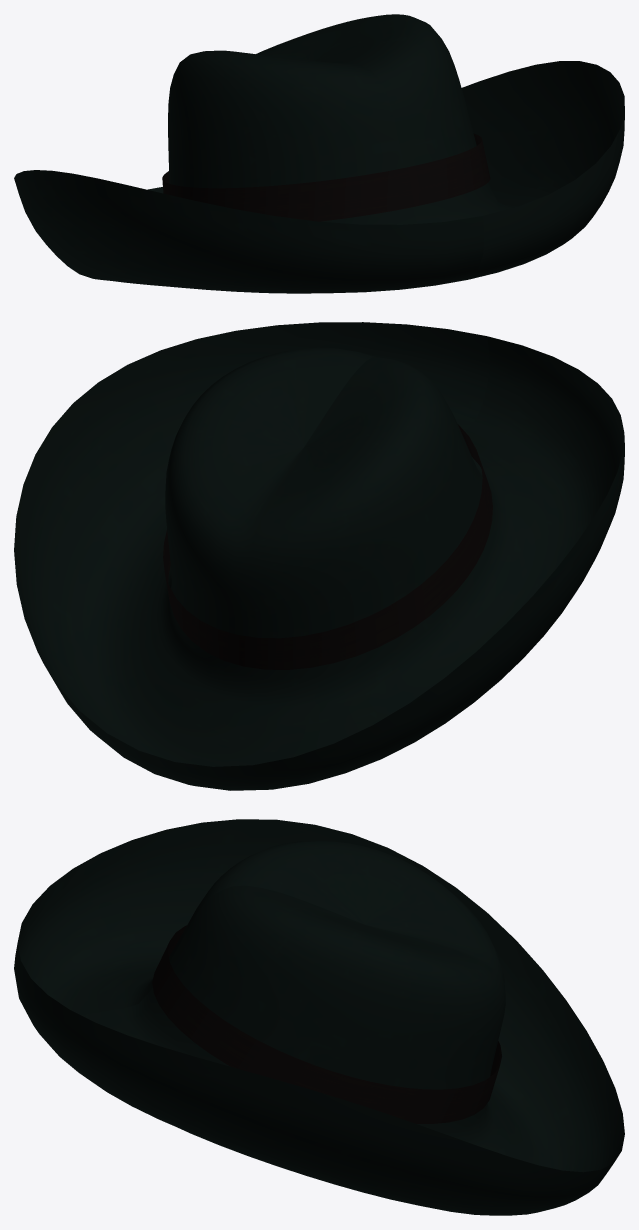
Rendered from hat.battered-brim.gltf.
3 views of the same model, one above another, from view 1: azimuth 30°, elevation 25°; view 2: azimuth 150°, elevation 25°; view 3: azimuth 270°, elevation 25° (orthographic). The views are drawn at different scales.
Parts seen in each view (by area): view 1: Head; view 2: Head; view 3: Head.
Part boxes in pixels (bbox=[...]): Head: bbox=[14, 14, 624, 293]; Head: bbox=[14, 322, 624, 790]; Head: bbox=[14, 819, 624, 1215].
Bounding box in the file's own units: 0.3867 × 0.2158 × 0.3984.
Materials: 1 (1 with a texture image).
